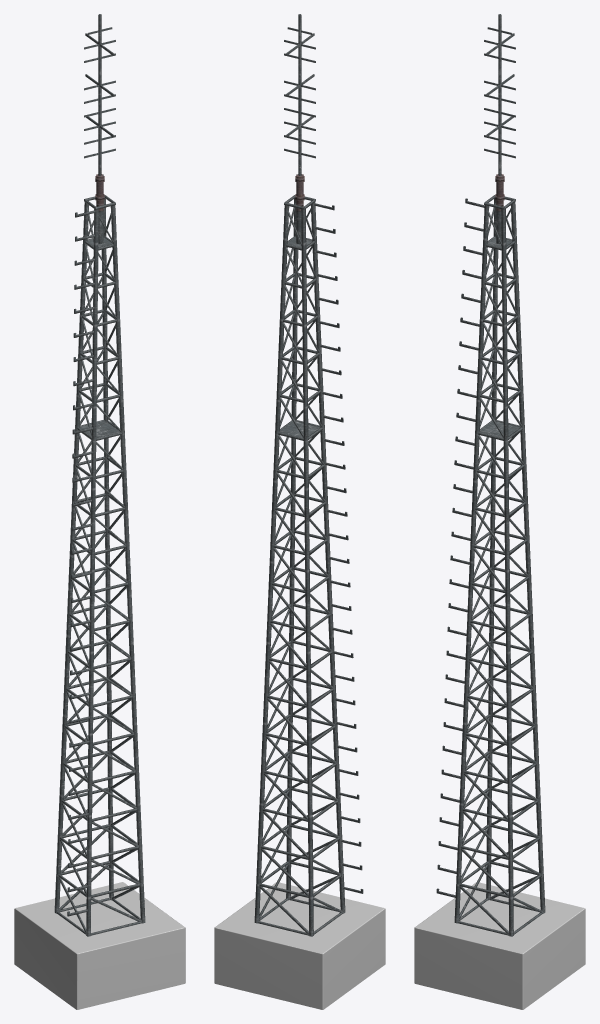
The model's file is Mast1.fbx.
3 views of the same model, side by side, from view 1: azimuth 30°, elevation 25°; view 2: azimuth 150°, elevation 25°; view 3: azimuth 330°, elevation 25° (orthographic).
Visible parts, largest first — view 1: polySurface383; view 2: polySurface383; view 3: polySurface383.
Boxes of the visible parts, bbox=[...] form: polySurface383: bbox=[14, 14, 185, 1009]; polySurface383: bbox=[214, 14, 385, 1009]; polySurface383: bbox=[414, 14, 585, 1009].
Bounding box in the file's own units: 4 × 33.57 × 4.
